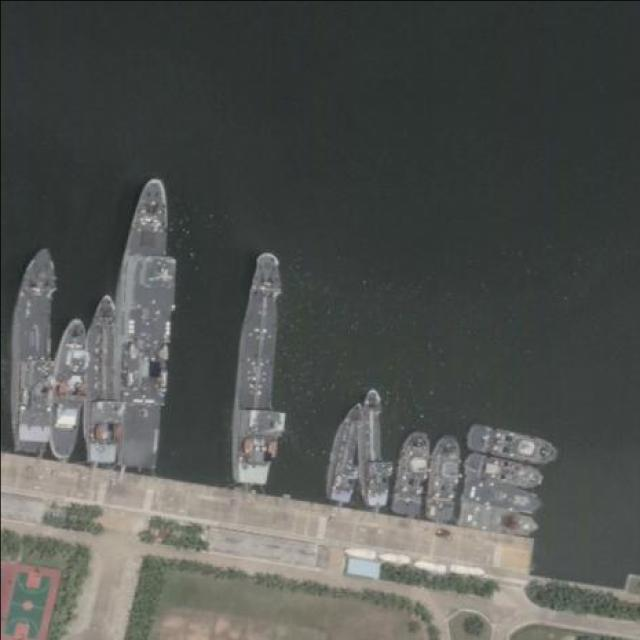Landing: (111, 179, 180, 472), (231, 249, 296, 487), (13, 246, 57, 456)
Other Warship: (86, 293, 119, 461), (52, 318, 90, 458), (465, 420, 562, 471), (323, 397, 363, 503), (462, 450, 546, 495), (361, 391, 393, 508), (456, 499, 542, 540), (462, 478, 546, 518), (425, 435, 463, 520), (393, 430, 431, 514)
